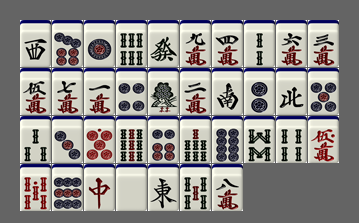0m: (308, 116, 339, 163)
0p: (84, 116, 115, 163)
0s: (20, 164, 51, 211)
1m: (84, 68, 115, 115)
1p: (84, 20, 115, 67)
1s: (148, 68, 179, 115)
1z: (148, 164, 179, 211)
2m: (180, 68, 211, 115)
2p: (244, 68, 275, 115)
2s: (244, 20, 275, 67)
2z: (212, 68, 243, 115)
3m: (308, 20, 339, 67)
3p: (52, 116, 83, 163)
3s: (20, 116, 51, 163)
3z: (20, 20, 51, 67)
4m: (212, 20, 243, 67)
4p: (116, 68, 147, 115)
4s: (276, 116, 307, 163)
4z: (276, 68, 307, 115)
5m: (20, 68, 51, 115)
5p: (308, 68, 339, 115)
5s: (180, 164, 211, 211)
5z: (116, 164, 147, 211)
6m: (276, 20, 307, 67)
6p: (148, 116, 179, 163)
6s: (116, 20, 147, 67)
6z: (148, 20, 179, 67)
7m: (52, 68, 83, 115)
7p: (52, 20, 83, 67)
7s: (180, 116, 211, 163)
7z: (84, 164, 115, 211)
8m: (212, 164, 243, 211)
8p: (212, 116, 243, 163)
8s: (244, 116, 275, 163)
9m: (180, 20, 211, 67)
9p: (52, 164, 83, 211)
9s: (116, 116, 147, 163)
